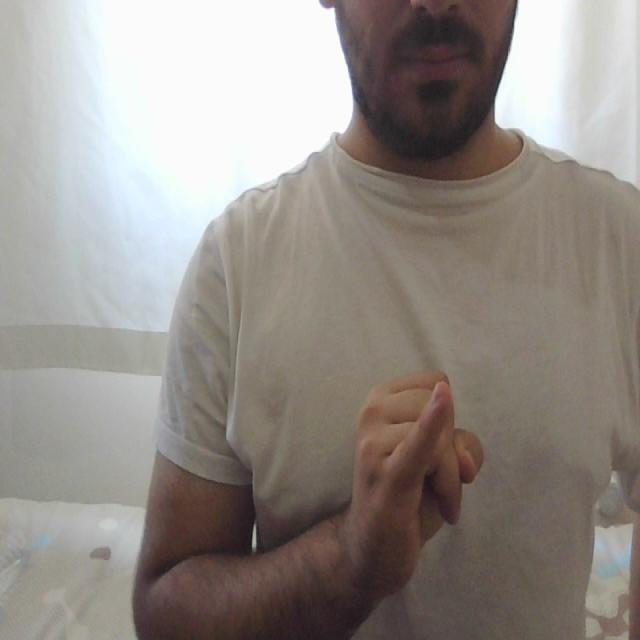kotu: (355, 359, 481, 552)
